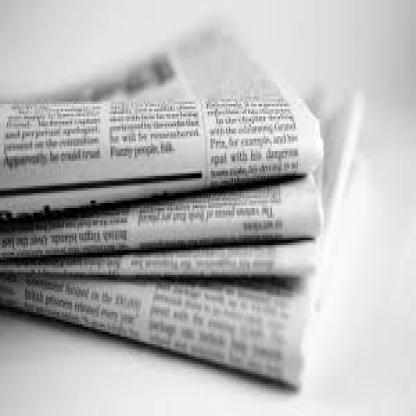paper: (0, 79, 361, 394), (0, 27, 321, 221), (0, 171, 322, 243), (0, 238, 322, 287)
